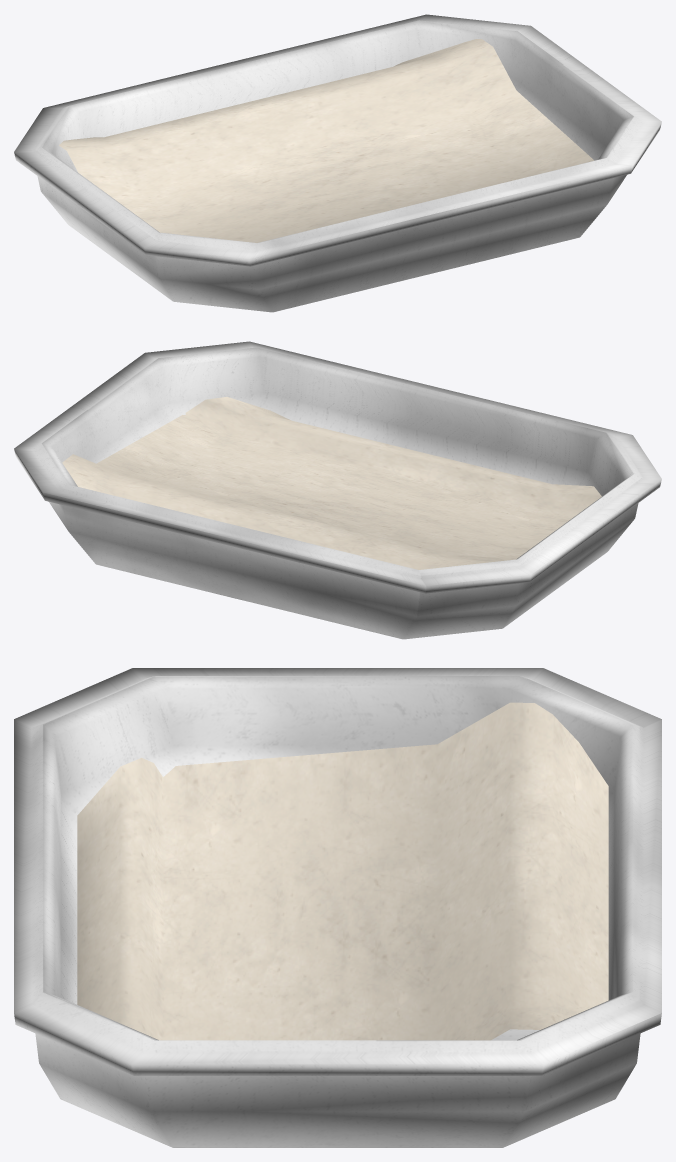
Rendered from DishStand.glb.
3 renders of one model, top to bottom at view 1: azimuth 30°, elevation 25°; view 2: azimuth 150°, elevation 25°; view 3: azimuth 270°, elevation 25°, orthographic. The views are drawn at different scales.
Visible parts, largest first — view 1: Cube, Cube.001; view 2: Cube, Cube.001; view 3: Cube.001, Cube.
Part boxes in pixels (bbox=[...]): Cube: bbox=[14, 14, 661, 312]; Cube.001: bbox=[59, 39, 593, 242]; Cube: bbox=[14, 341, 661, 639]; Cube.001: bbox=[62, 397, 601, 569]; Cube.001: bbox=[77, 702, 608, 1040]; Cube: bbox=[14, 668, 661, 1147].
Size of the model in its own units: 2 by 0.2907 by 1.38.
Materials: 2 (2 with a texture image).
